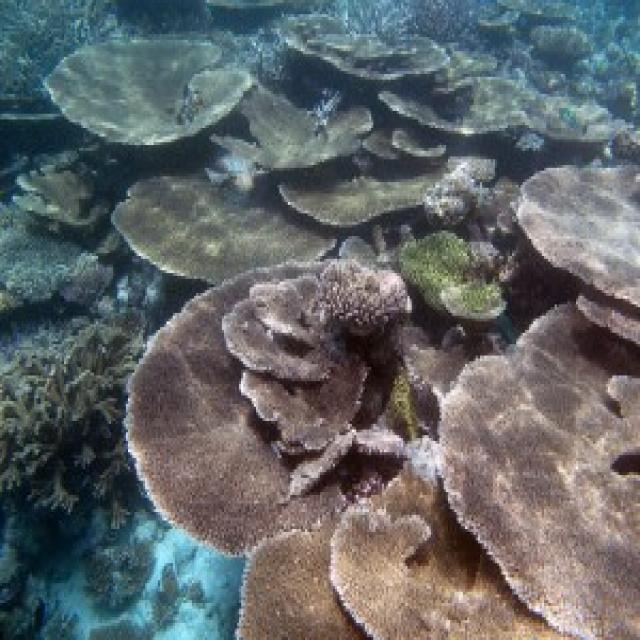Healthy: (440, 303, 639, 638), (129, 274, 336, 553), (223, 260, 411, 496), (332, 442, 558, 638), (287, 18, 620, 140), (1, 308, 146, 516), (114, 177, 334, 283), (517, 166, 639, 345), (46, 38, 253, 143), (240, 522, 364, 638), (221, 86, 372, 169), (379, 325, 464, 439), (400, 231, 504, 320), (280, 175, 440, 226), (426, 160, 490, 223), (364, 129, 445, 157)
